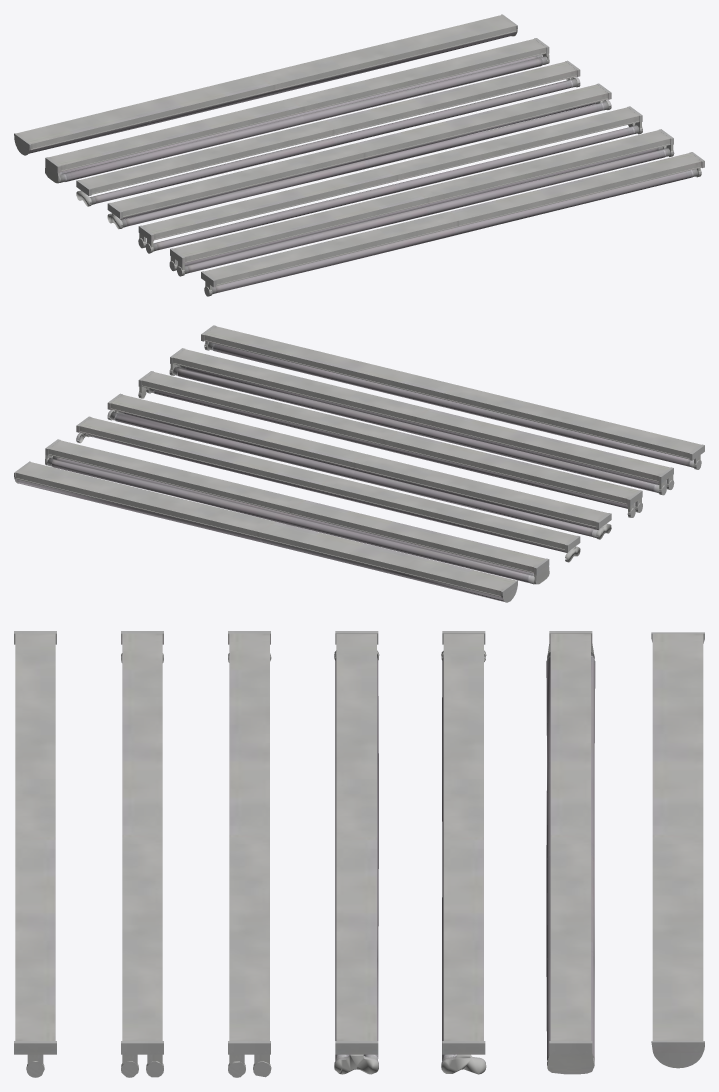
Rendered from fluoro.glb.
3 renders of one model, top to bottom at view 1: azimuth 30°, elevation 25°; view 2: azimuth 150°, elevation 25°; view 3: azimuth 270°, elevation 25°, orthographic. The views are drawn at different scales.
Visible parts, largest first — view 1: mounted_fluorescent_lights_f, mounted_fluorescent_lights_b, mounted_fluorescent_lights_d, mounted_fluorescent_lights_e, mounted_fluorescent_lights_c, mounted_fluorescent_lights_a, mounted_fluorescent_lights_g; view 2: mounted_fluorescent_lights_b, mounted_fluorescent_lights_f, mounted_fluorescent_lights_d, mounted_fluorescent_lights_a, mounted_fluorescent_lights_g, mounted_fluorescent_lights_c, mounted_fluorescent_lights_e; view 3: mounted_fluorescent_lights_g, mounted_fluorescent_lights_f, mounted_fluorescent_lights_d, mounted_fluorescent_lights_e, mounted_fluorescent_lights_b, mounted_fluorescent_lights_c, mounted_fluorescent_lights_a.
Boxes of the visible parts, x1,y1,x2,y2 form: mounted_fluorescent_lights_f: (45,38,549,183); mounted_fluorescent_lights_b: (169,129,674,276); mounted_fluorescent_lights_d: (107,83,611,229); mounted_fluorescent_lights_e: (76,60,580,206); mounted_fluorescent_lights_c: (138,106,642,253); mounted_fluorescent_lights_a: (201,152,704,296); mounted_fluorescent_lights_g: (14,14,517,155); mounted_fluorescent_lights_b: (169,348,674,495); mounted_fluorescent_lights_f: (45,439,549,584); mounted_fluorescent_lights_d: (107,393,611,539); mounted_fluorescent_lights_a: (201,325,704,469); mounted_fluorescent_lights_g: (14,461,517,602); mounted_fluorescent_lights_c: (138,371,642,517); mounted_fluorescent_lights_e: (76,416,580,562); mounted_fluorescent_lights_g: (651,632,704,1068); mounted_fluorescent_lights_f: (546,631,595,1074); mounted_fluorescent_lights_d: (334,631,379,1074); mounted_fluorescent_lights_e: (441,631,486,1074); mounted_fluorescent_lights_b: (121,631,163,1077); mounted_fluorescent_lights_c: (228,631,271,1077); mounted_fluorescent_lights_a: (14,631,56,1077).
Size of the model in its own units: 0.9122 by 0.0353 by 0.6454.
2 materials, 2 textured.
